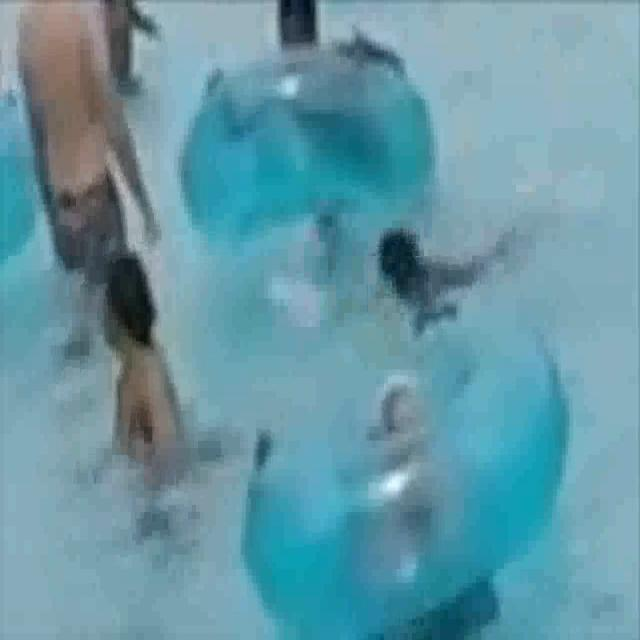Out of Water: (340, 209, 503, 327)
